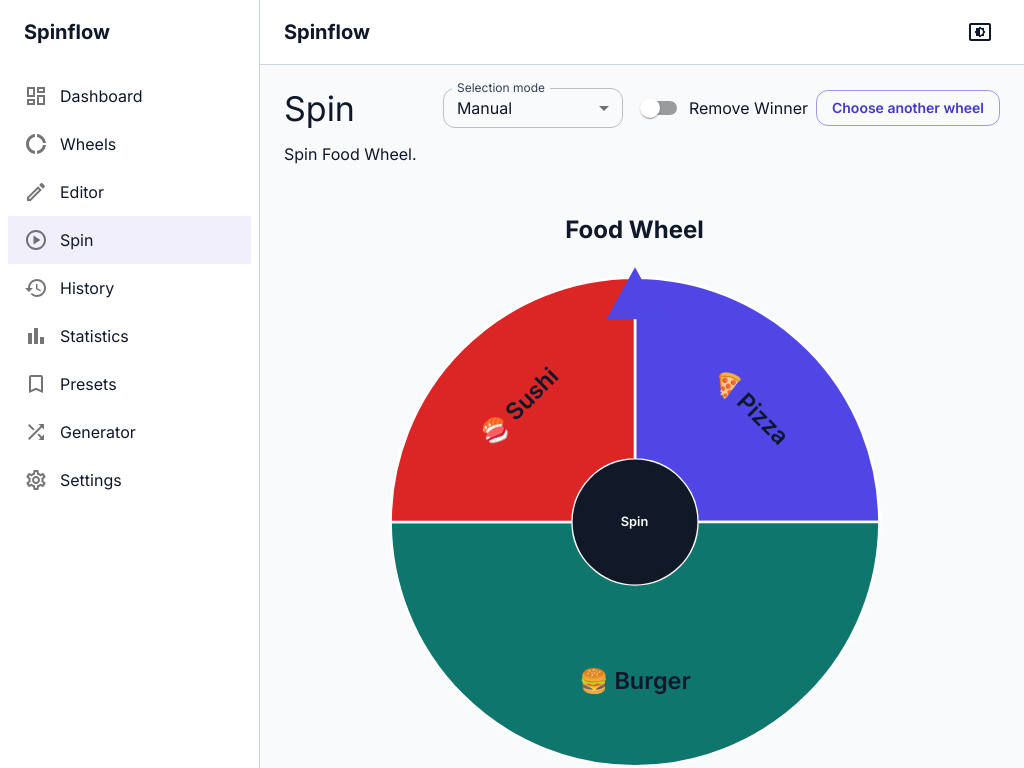
Scenario: SpinScreen › shows the final result when Finish is chosen
Click the button with aria-label "Spin the wheel" at coordinates (634, 522), box [575,462,694,582]
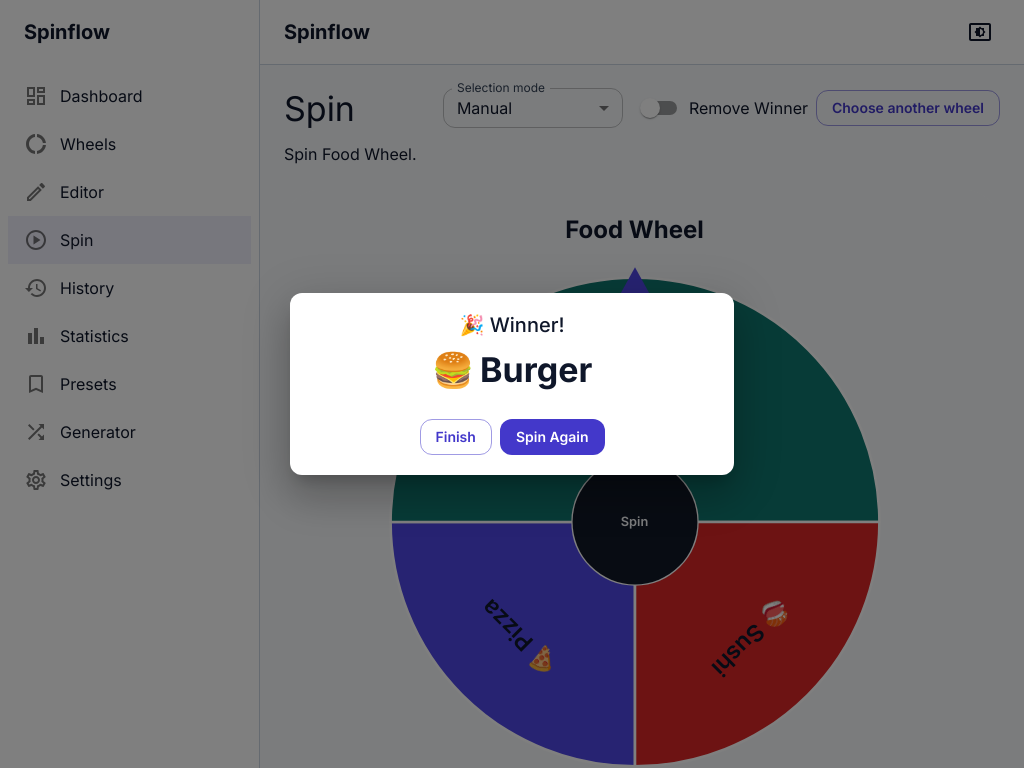
Click the button "Finish" at coordinates (456, 437), box [420,419,492,455]
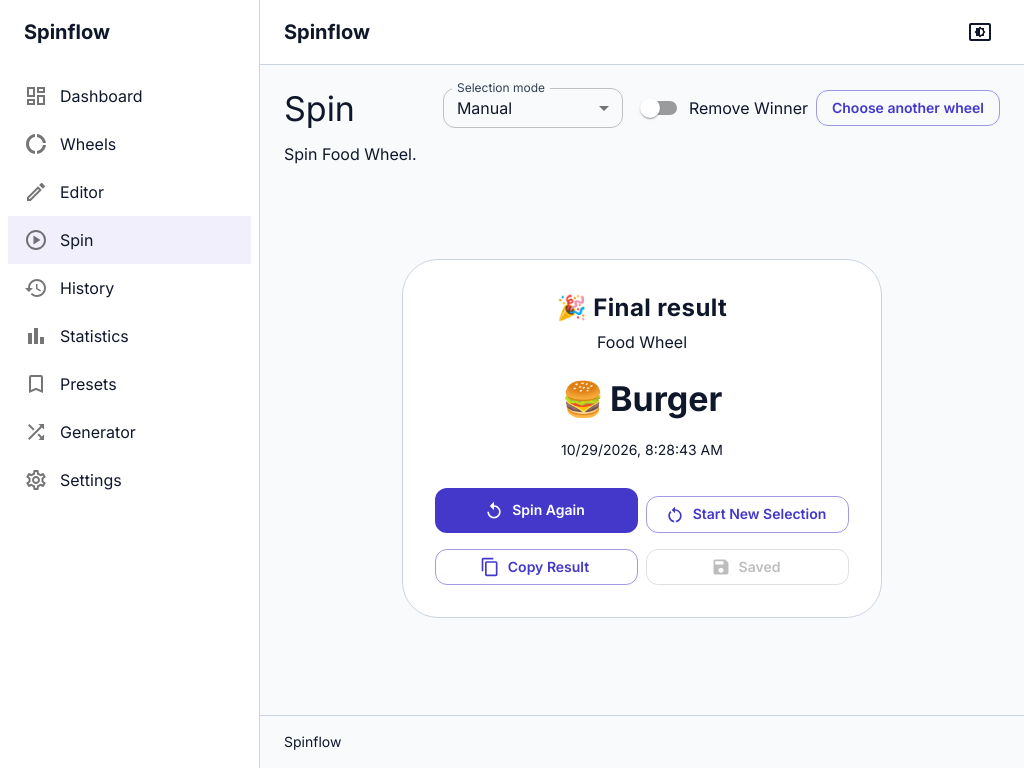
Expected: the text "Food Wheel" is shown, [597,332,687,352]
Now the text "Burger" is shown, box [610,378,722,419]
Now the dialog is gone
Click the button "Copy Result" at coordinates (536, 567), box [435,549,638,585]
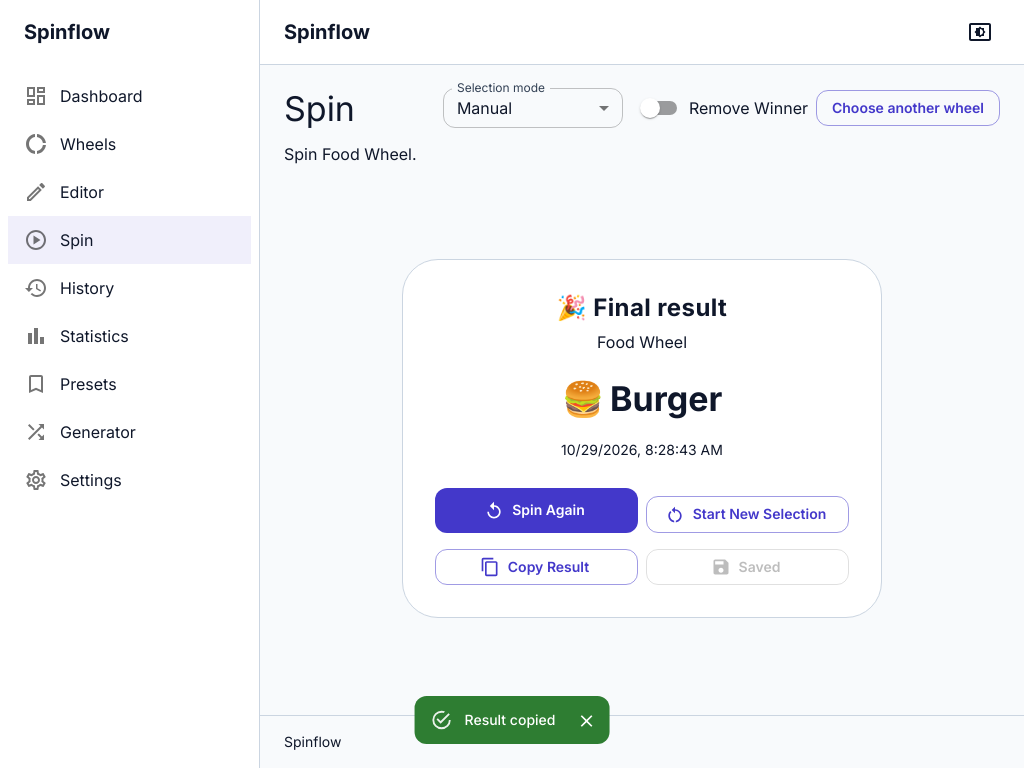
Expected: the text "Food Wheel" is shown, [597,332,687,352]
Now the button "Saved" is disabled, box [646,549,849,585]
Click the button "Spin Again" at coordinates (536, 511), box [435,488,638,533]
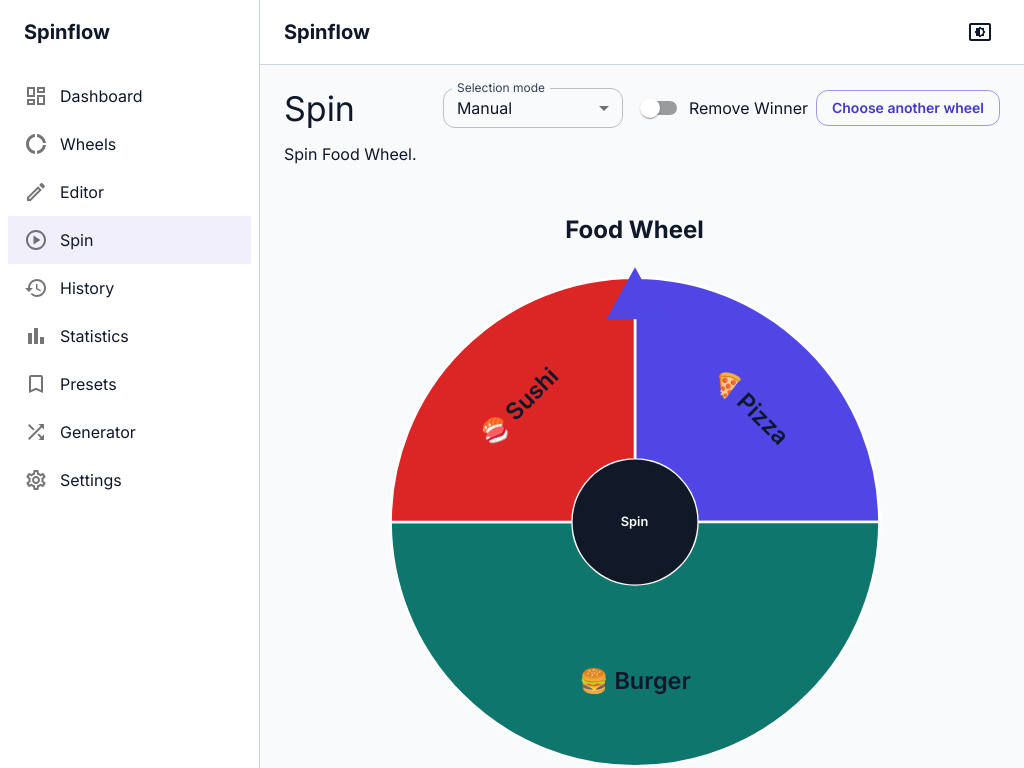
Now the heading "🎉 Final result" is gone
Click the button with aria-label "Spin the wheel" at coordinates (634, 522), box [575,462,694,582]
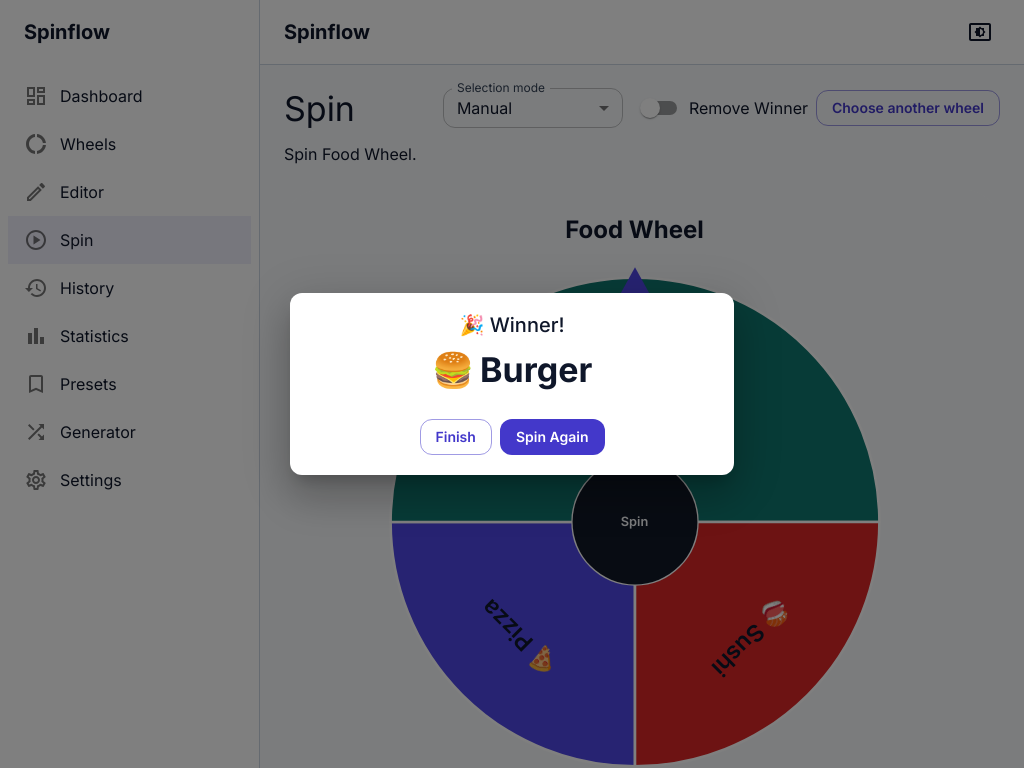
Now the dialog "🎉 Winner!" is shown, box [290,293,734,475]
